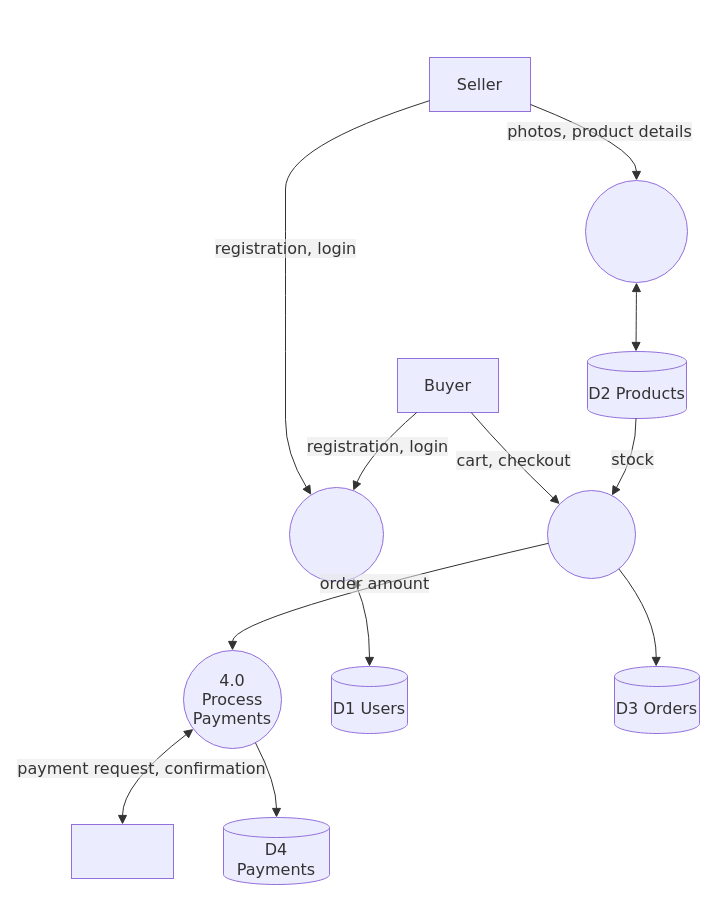
Some shapes in this 717 by 902 pixel diagram are drawn without their labels. Here are the shapes that lost their labels. From the top down, the centre of each, then its label:
point 636,231: 2.0 Manage Catalogue
point 336,534: 1.0 Manage Accounts
point 591,534: 3.0 Process Orders
point 122,851: Stripe
